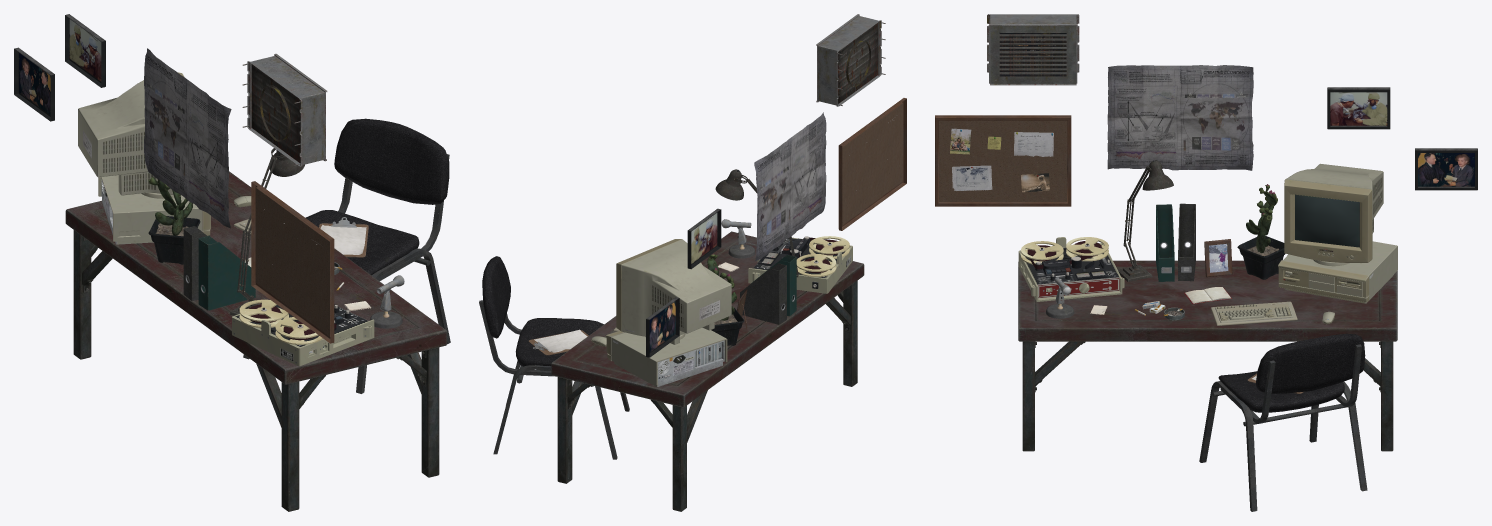
File: office.glb
3 views of the same model, side by side, from view 1: azimuth 30°, elevation 25°; view 2: azimuth 150°, elevation 25°; view 3: azimuth 270°, elevation 25° (orthographic). The views are drawn at different scales.
Parts seen in each view (by area): view 1: Object_68, Object_107, Object_95, Object_10, Object_26, Object_75, Object_97, Object_18, Object_70, Object_71, Object_4, Object_109 (+1 smaller); view 2: Object_68, Object_10, Object_95, Object_26, Object_107, Object_75, Object_97, Object_18, Object_71, Object_70, Object_4, Object_101 (+1 smaller); view 3: Object_68, Object_95, Object_10, Object_26, Object_107, Object_75, Object_97, Object_70, Object_18, Object_71, Object_4, Object_109 (+1 smaller).
Part boxes in pixels (x1,y1,x2,y2): Object_68: [65, 171, 447, 511]; Object_107: [243, 118, 450, 393]; Object_95: [144, 48, 231, 228]; Object_10: [78, 72, 251, 244]; Object_26: [251, 181, 371, 343]; Object_75: [242, 53, 327, 166]; Object_97: [14, 14, 105, 121]; Object_18: [183, 226, 255, 310]; Object_70: [232, 304, 374, 366]; Object_71: [239, 275, 404, 344]; Object_4: [148, 177, 200, 264]; Object_109: [230, 148, 304, 315]; Object_68: [551, 231, 864, 511]; Object_10: [591, 239, 731, 386]; Object_95: [754, 112, 826, 260]; Object_26: [718, 98, 906, 329]; Object_107: [479, 256, 629, 459]; Object_75: [816, 14, 885, 106]; Object_97: [646, 208, 721, 357]; Object_18: [740, 254, 796, 324]; Object_71: [721, 219, 849, 276]; Object_70: [748, 236, 852, 293]; Object_4: [707, 254, 744, 345]; Object_101: [528, 329, 588, 355]; Object_68: [1018, 260, 1397, 451]; Object_95: [1107, 65, 1253, 170]; Object_10: [1210, 163, 1397, 325]; Object_26: [935, 115, 1232, 314]; Object_107: [1199, 333, 1367, 511]; Object_75: [987, 14, 1079, 85]; Object_97: [1327, 87, 1477, 190]; Object_70: [1018, 237, 1124, 301]; Object_18: [1156, 203, 1195, 281]; Object_71: [1021, 237, 1108, 318]; Object_4: [1237, 184, 1285, 279]; Object_109: [1117, 160, 1173, 281].
Size of the model in its own units: 1.72 by 2.18 by 2.89.
14 materials, 14 textured.
